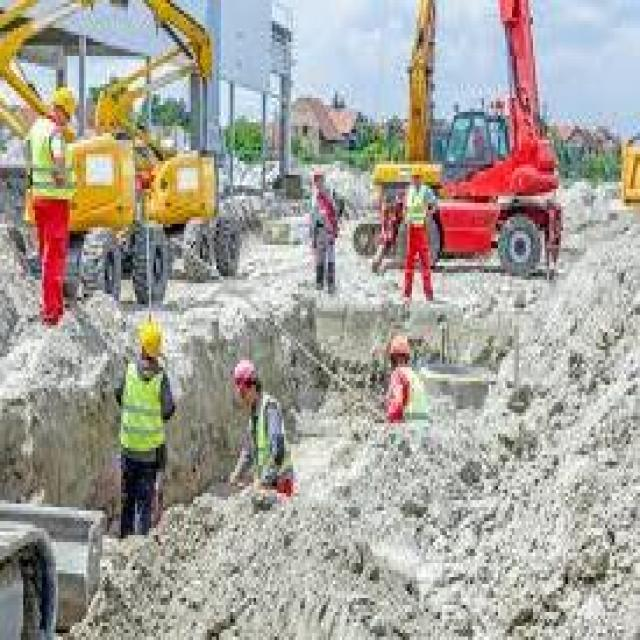Reflective-Jacket: (112, 356, 174, 468), (21, 115, 79, 217), (240, 395, 298, 493), (400, 185, 440, 259)
Safety-Helmet: (130, 307, 170, 363), (226, 350, 263, 402), (46, 77, 82, 122), (384, 329, 414, 367)
